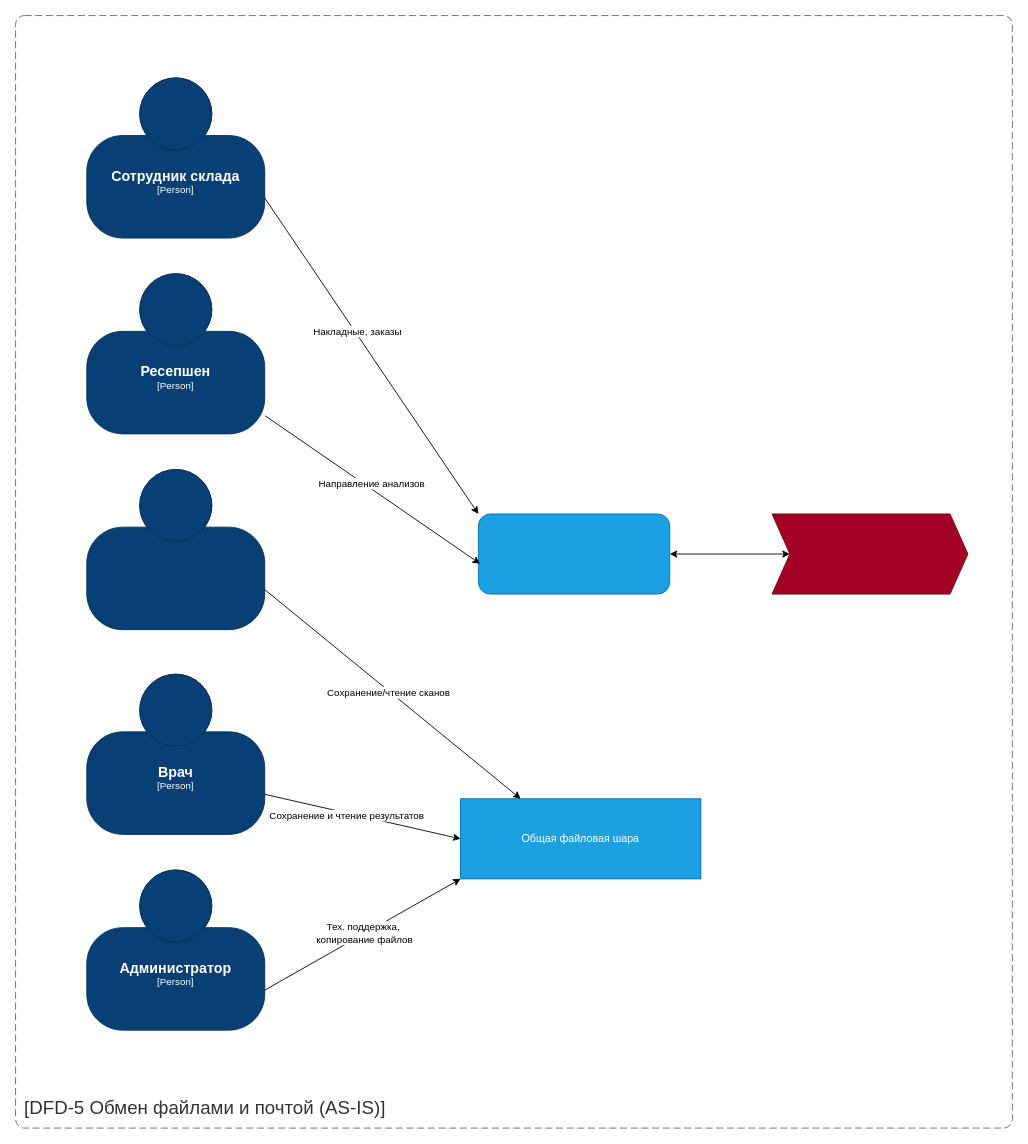
This 1028x1144 diagram has some shape labels left out. The centre of each missing label's shape, as x and y in pixels:
Бухгалтер [Person]: the point at 175,549
Внешние лаборатории: the point at 869,553
Почтовый сервер: the point at 573,553
